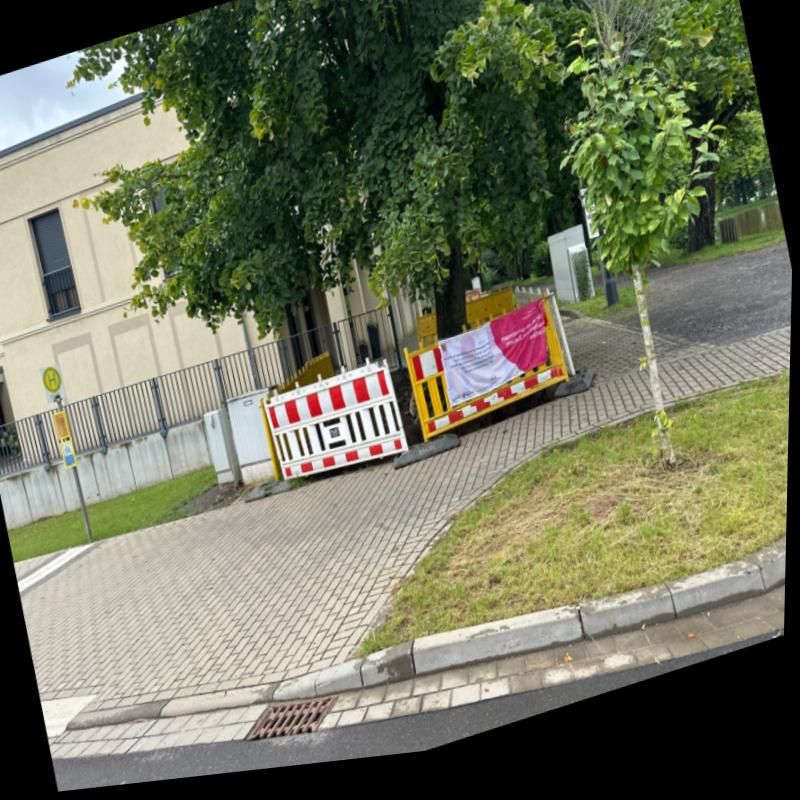Banner: (437, 310, 562, 425)
